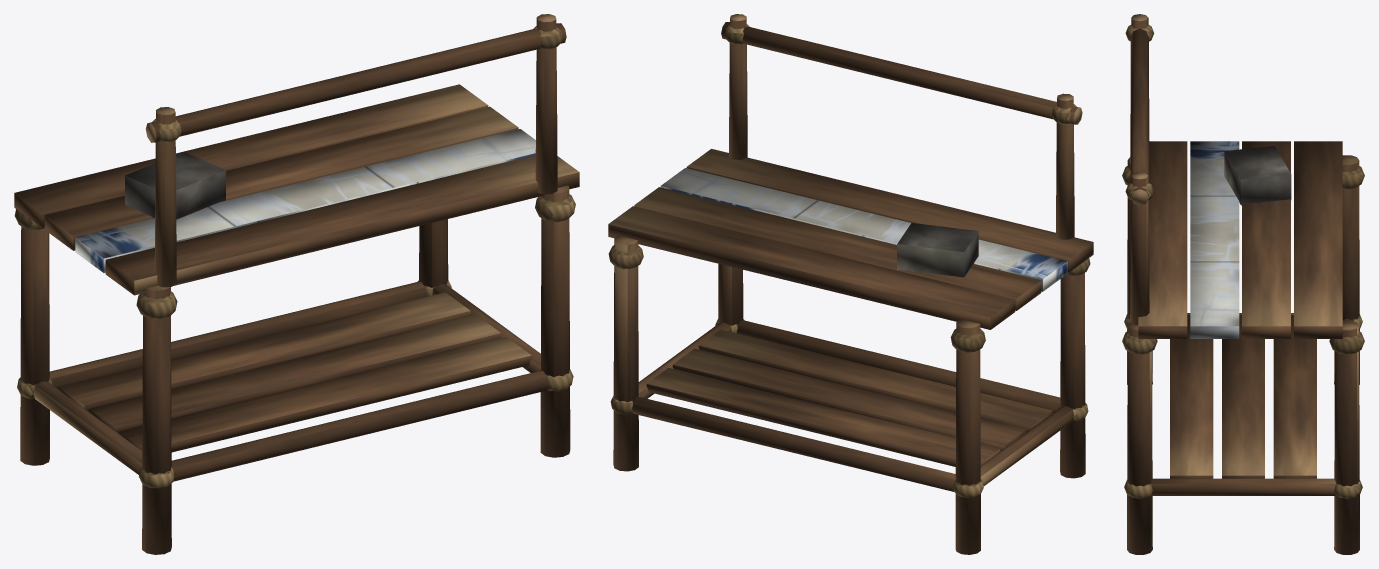
The model's file is workbench.glb.
3 views of the same model, side by side, from view 1: azimuth 30°, elevation 25°; view 2: azimuth 150°, elevation 25°; view 3: azimuth 270°, elevation 25° (orthographic). The views are drawn at different scales.
Visible parts, largest first — view 1: Workbench; view 2: Workbench; view 3: Workbench.
Part boxes in pixels (box(x1,y1,x2,y2)): Workbench: box(14, 14, 579, 554); Workbench: box(608, 14, 1093, 554); Workbench: box(1122, 14, 1364, 554).
Size of what is drawn, in the model's own units: 1.52 by 1.42 by 0.844.
Materials: 4 (4 with a texture image).
